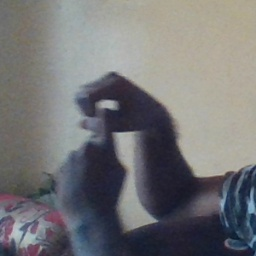Q: (55, 71, 145, 207)
